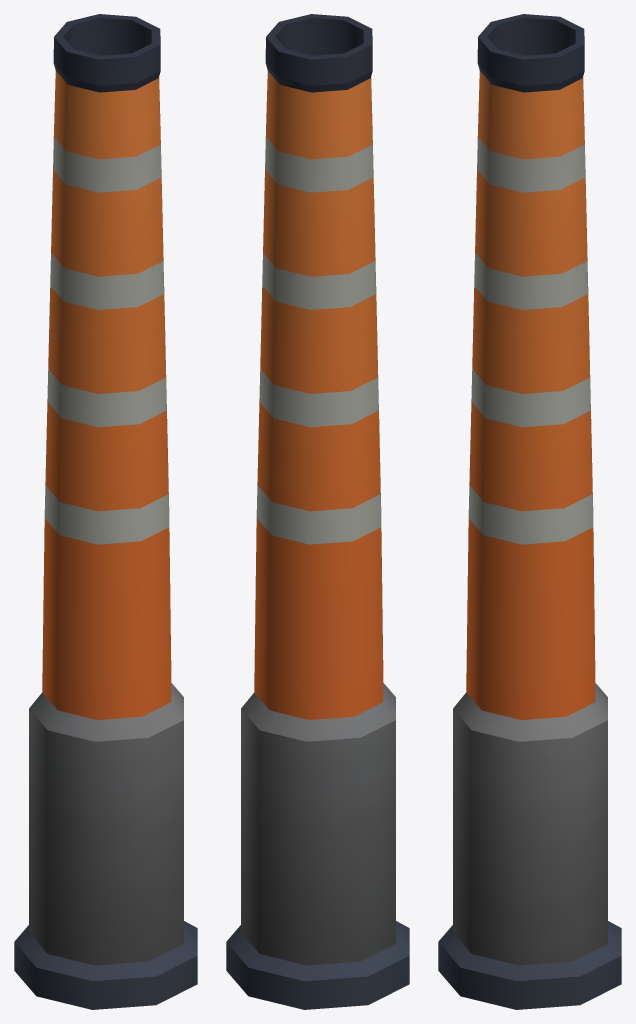
File: ChimneyPowerPlant_3_B.fbx
3 renders of one model, left to right at view 1: azimuth 30°, elevation 25°; view 2: azimuth 150°, elevation 25°; view 3: azimuth 270°, elevation 25°, orthographic.
Visible parts, largest first — view 1: ChimneyPowerPlant_3_B; view 2: ChimneyPowerPlant_3_B; view 3: ChimneyPowerPlant_3_B.
Boxes of the visible parts, x1,y1,x2,y2 form: ChimneyPowerPlant_3_B: (14,14,197,1009); ChimneyPowerPlant_3_B: (226,14,409,1009); ChimneyPowerPlant_3_B: (438,14,621,1009).
Size of the model in its own units: 534 by 2952 by 526.
